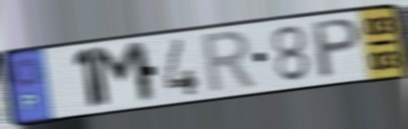1: (71, 46, 103, 111)
4: (162, 36, 201, 98)
8: (269, 23, 312, 84)
M: (86, 39, 159, 111)
P: (311, 15, 364, 82)
R: (200, 27, 260, 97)
